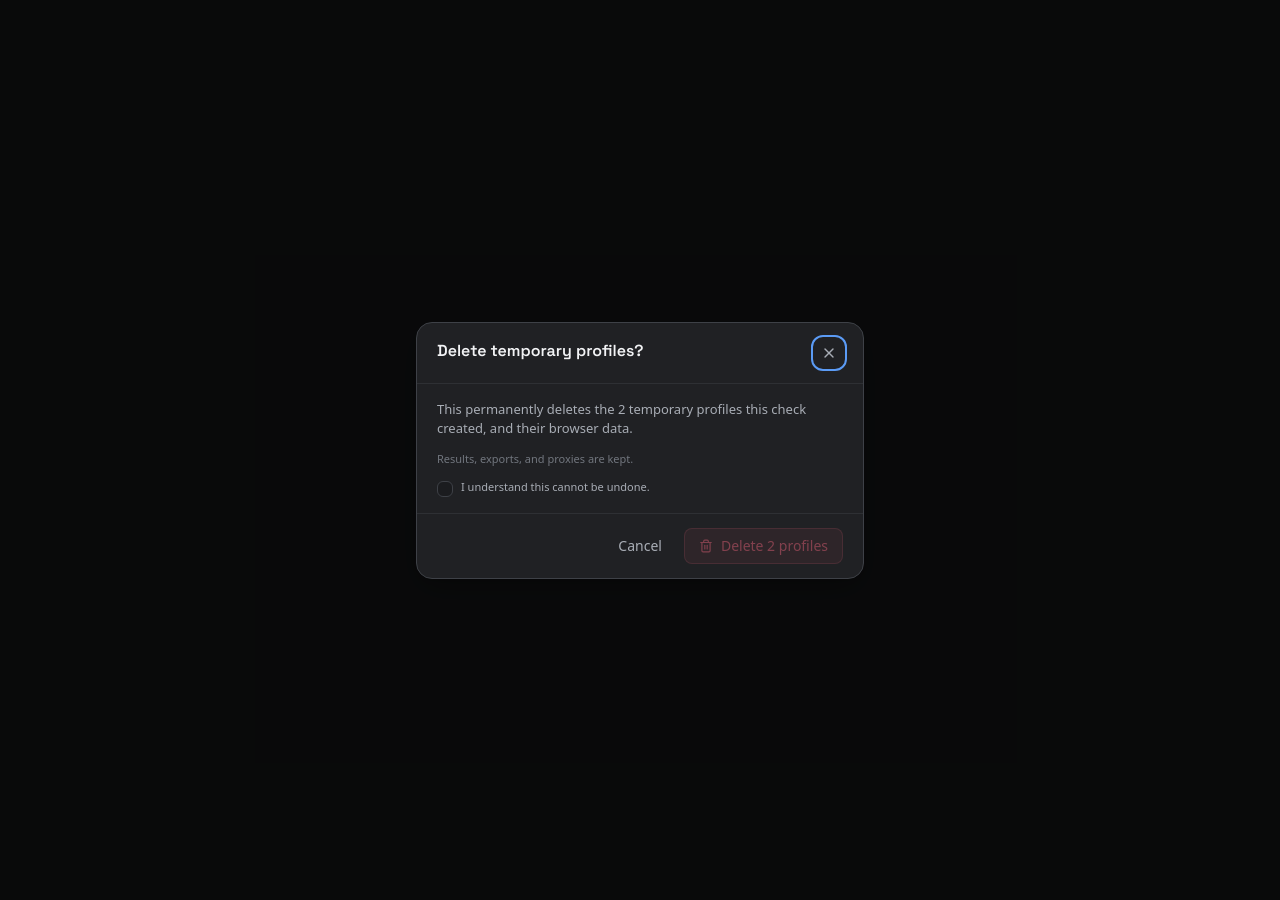
Test: ShopCheckCleanupDialog › shows the exact owned-profile count and gates on confirmation
Expected: the button "Delete 2 profiles" is disabled, left=684, top=528, right=843, bottom=564
Click the checkbox: x=445, y=488 left=437, top=480, right=453, bottom=496
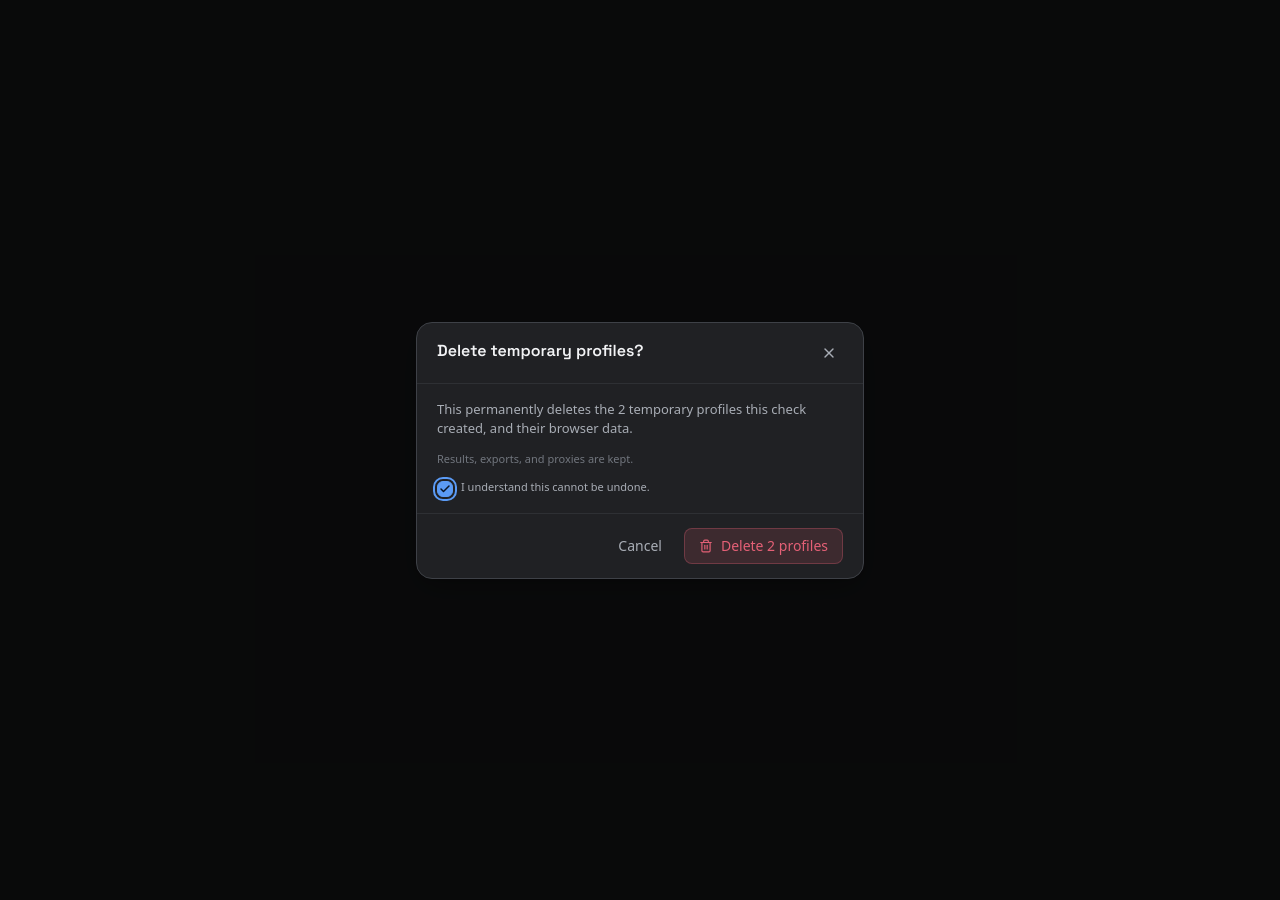
Expected: the button "Delete 2 profiles" is enabled, left=684, top=528, right=843, bottom=564
